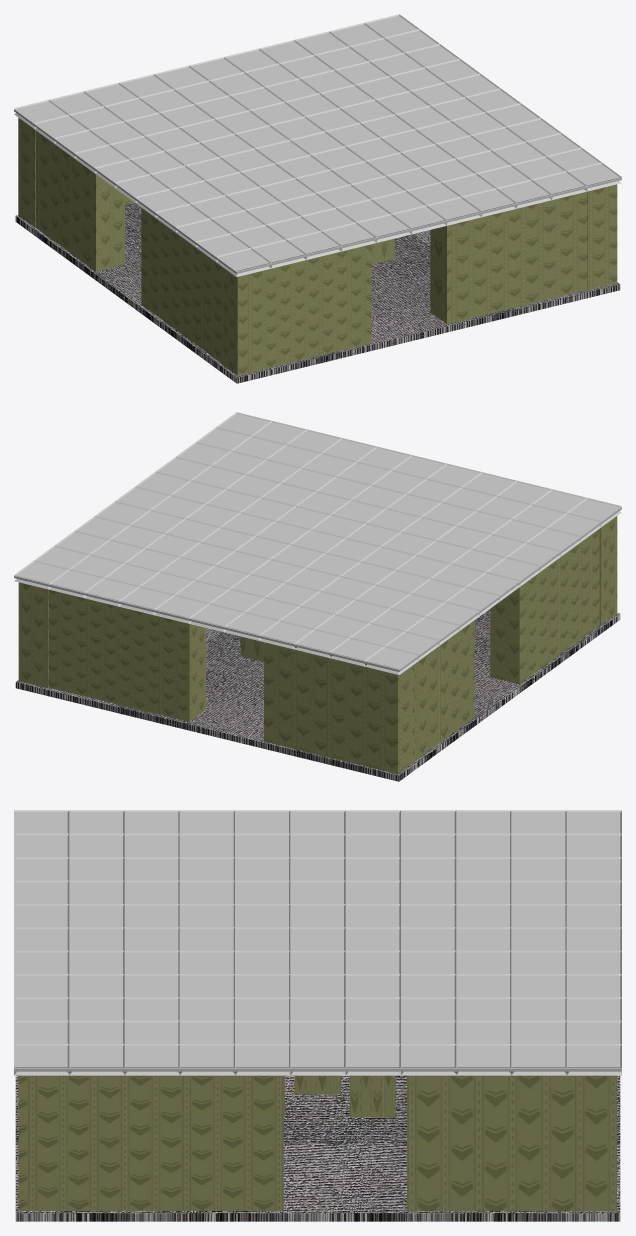
Rendered from StartRoom.obj.
3 views of the same model, one above another, from view 1: azimuth 30°, elevation 25°; view 2: azimuth 150°, elevation 25°; view 3: azimuth 270°, elevation 25° (orthographic). The views are drawn at different scales.
Parts seen in each view (by area): view 1: Roof_Plane.002, Plane_Plane.001, Cube.014_Cube.015, Cube.013_Cube.014, Floor_Plane, Cube.011_Cube.012, Cube.012_Cube.013, Cube.009_Cube.010, Cube.001_Cube.002, Cube.006_Cube.007; view 2: Roof_Plane.002, Plane_Plane.001, Cube.010_Cube.011, Cube.001_Cube.002, Floor_Plane, Cube.012_Cube.013, Cube.011_Cube.012, Cube.002_Cube.003, Cube.013_Cube.014; view 3: Roof_Plane.002, Cube.009_Cube.010, Plane_Plane.001, Cube.002_Cube.003, Floor_Plane, Cube.007_Cube.008, Cube_Cube.001.
Part boxes in pixels (<box>): Roof_Plane.002: <box>14,16,621,273</box>; Plane_Plane.001: <box>14,14,621,276</box>; Cube.014_Cube.015: <box>430,189,587,324</box>; Cube.013_Cube.014: <box>221,244,371,375</box>; Floor_Plane: <box>15,203,620,383</box>; Cube.011_Cube.012: <box>35,130,124,271</box>; Cube.012_Cube.013: <box>141,208,220,362</box>; Cube.009_Cube.010: <box>587,184,617,290</box>; Cube.001_Cube.002: <box>18,117,134,227</box>; Cube.006_Cube.007: <box>371,238,395,264</box>; Roof_Plane.002: <box>14,414,621,671</box>; Plane_Plane.001: <box>14,412,621,674</box>; Cube.010_Cube.011: <box>48,589,206,721</box>; Cube.001_Cube.002: <box>264,642,414,773</box>; Floor_Plane: <box>15,609,620,781</box>; Cube.012_Cube.013: <box>490,529,599,684</box>; Cube.011_Cube.012: <box>414,620,474,760</box>; Cube.002_Cube.003: <box>18,582,48,688</box>; Cube.013_Cube.014: <box>599,516,617,625</box>; Roof_Plane.002: <box>14,812,621,1071</box>; Cube.009_Cube.010: <box>18,1071,283,1210</box>; Plane_Plane.001: <box>14,810,621,1075</box>; Cube.002_Cube.003: <box>407,1071,616,1211</box>; Floor_Plane: <box>15,1075,620,1221</box>; Cube.007_Cube.008: <box>349,1075,395,1117</box>; Cube_Cube.001: <box>294,1075,340,1094</box>.
Size of the model in its own units: 115 by 32.19 by 115.
